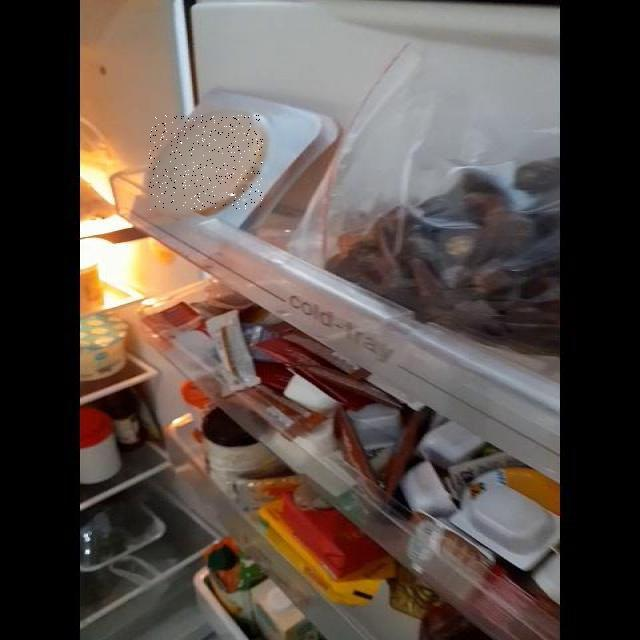salami: (149, 115, 263, 210)
